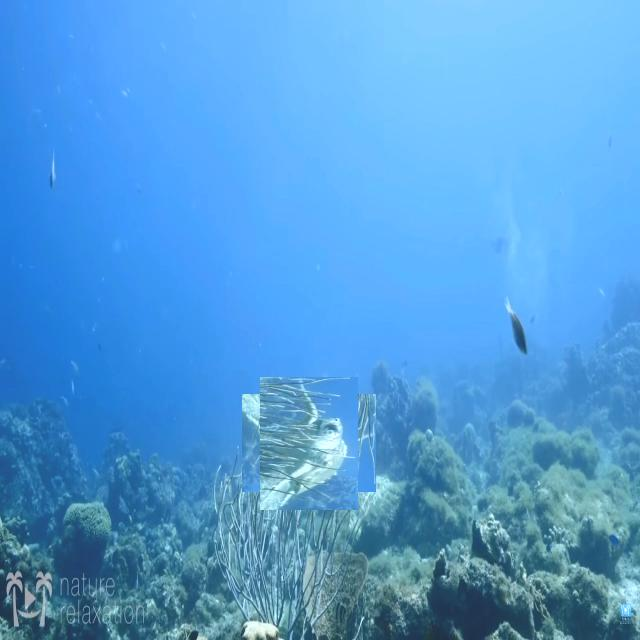Sea turtle: (252, 385, 368, 501)
